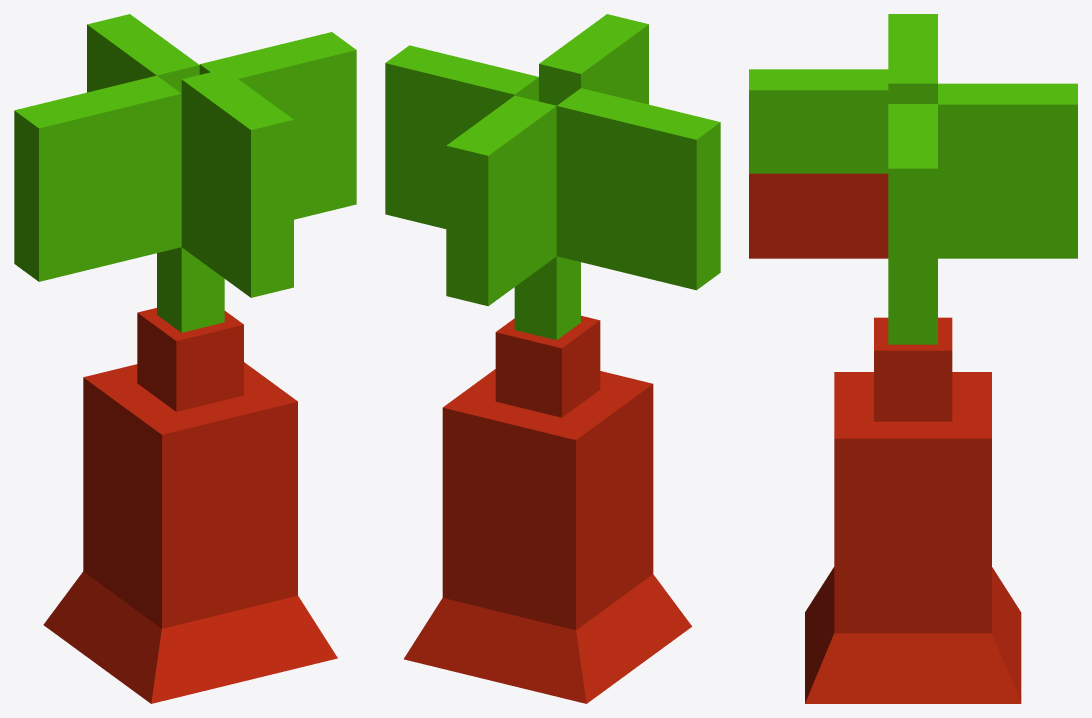
File: TestObj2.obj
3 views of the same model, side by side, from view 1: azimuth 30°, elevation 25°; view 2: azimuth 150°, elevation 25°; view 3: azimuth 270°, elevation 25° (orthographic). The views are drawn at different scales.
Parts seen in each view (by area): view 1: Cube; view 2: Cube; view 3: Cube.
Boxes of the visible parts, bbox=[...] form: Cube: bbox=[14, 14, 356, 703]; Cube: bbox=[385, 14, 720, 703]; Cube: bbox=[749, 14, 1077, 703].
Size of the model in its own units: 9.39 by 16.28 by 8.39.
